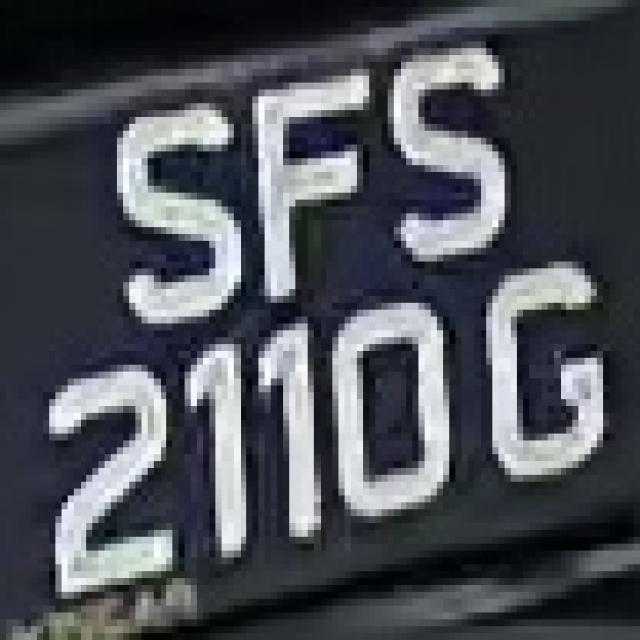0: (332, 282, 456, 544)
1: (184, 303, 258, 578), (252, 296, 326, 564)
2: (24, 365, 184, 633)
F: (240, 55, 388, 317)
G: (486, 262, 609, 502)
S: (98, 83, 264, 330), (369, 21, 517, 275)
